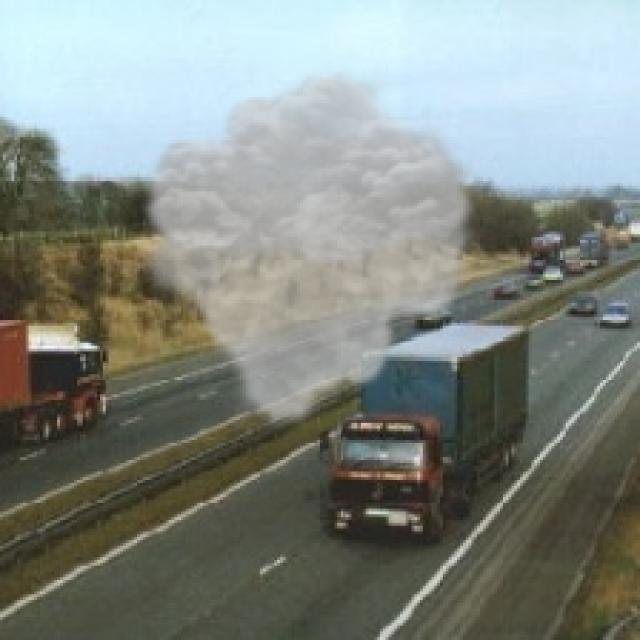smoke: (134, 69, 483, 432)
